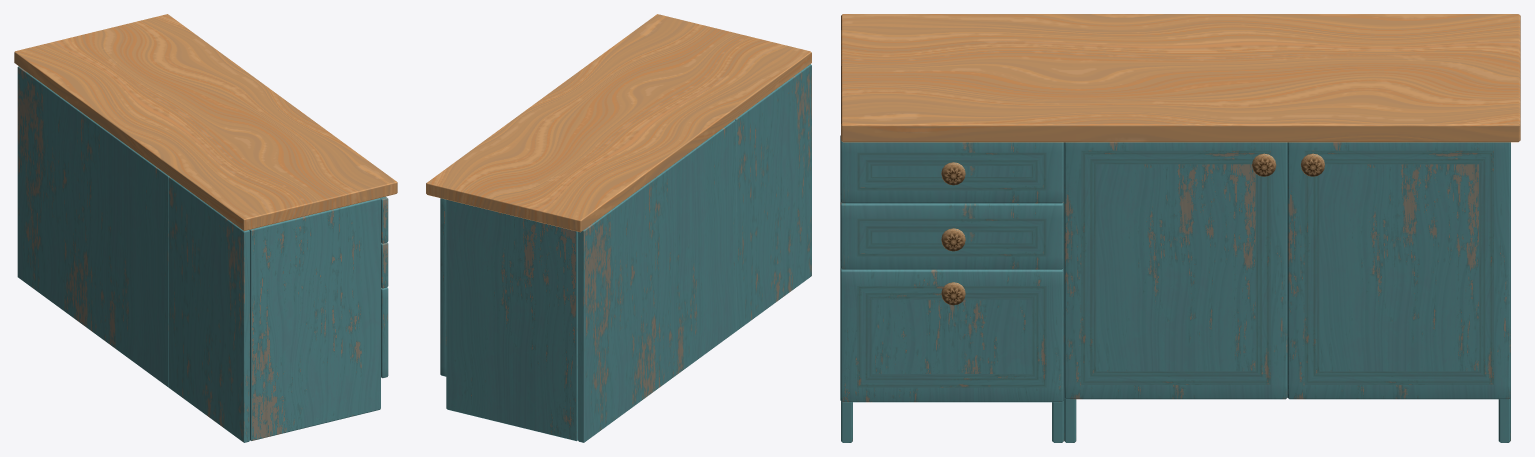
Rendered from blue-kitchen4.obj.
3 views of the same model, side by side, from view 1: azimuth 30°, elevation 25°; view 2: azimuth 150°, elevation 25°; view 3: azimuth 270°, elevation 25° (orthographic). The views are drawn at different scales.
Visible parts, largest first — view 1: blue_kitchen4:Cabinet_Back_BFBXASC046006; view 2: blue_kitchen4:Cabinet_Back_BFBXASC046006; view 3: blue_kitchen4:Cabinet_Back_BFBXASC046006.
Boxes of the visible parts, x1,y1,x2,y2 form: blue_kitchen4:Cabinet_Back_BFBXASC046006: (14,14,397,442); blue_kitchen4:Cabinet_Back_BFBXASC046006: (426,14,811,442); blue_kitchen4:Cabinet_Back_BFBXASC046006: (840,14,1520,442).
Bounding box in the file's own units: 86.65 × 120 × 223.
1 material, 1 textured.
